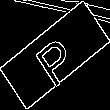P_NW: (29, 23, 81, 87)
